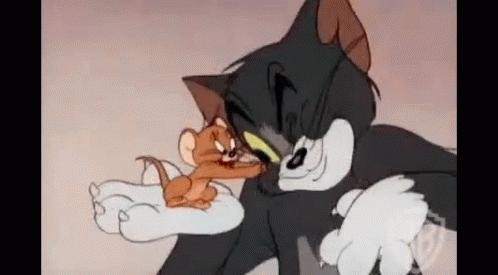jerry: (133, 106, 268, 209)
